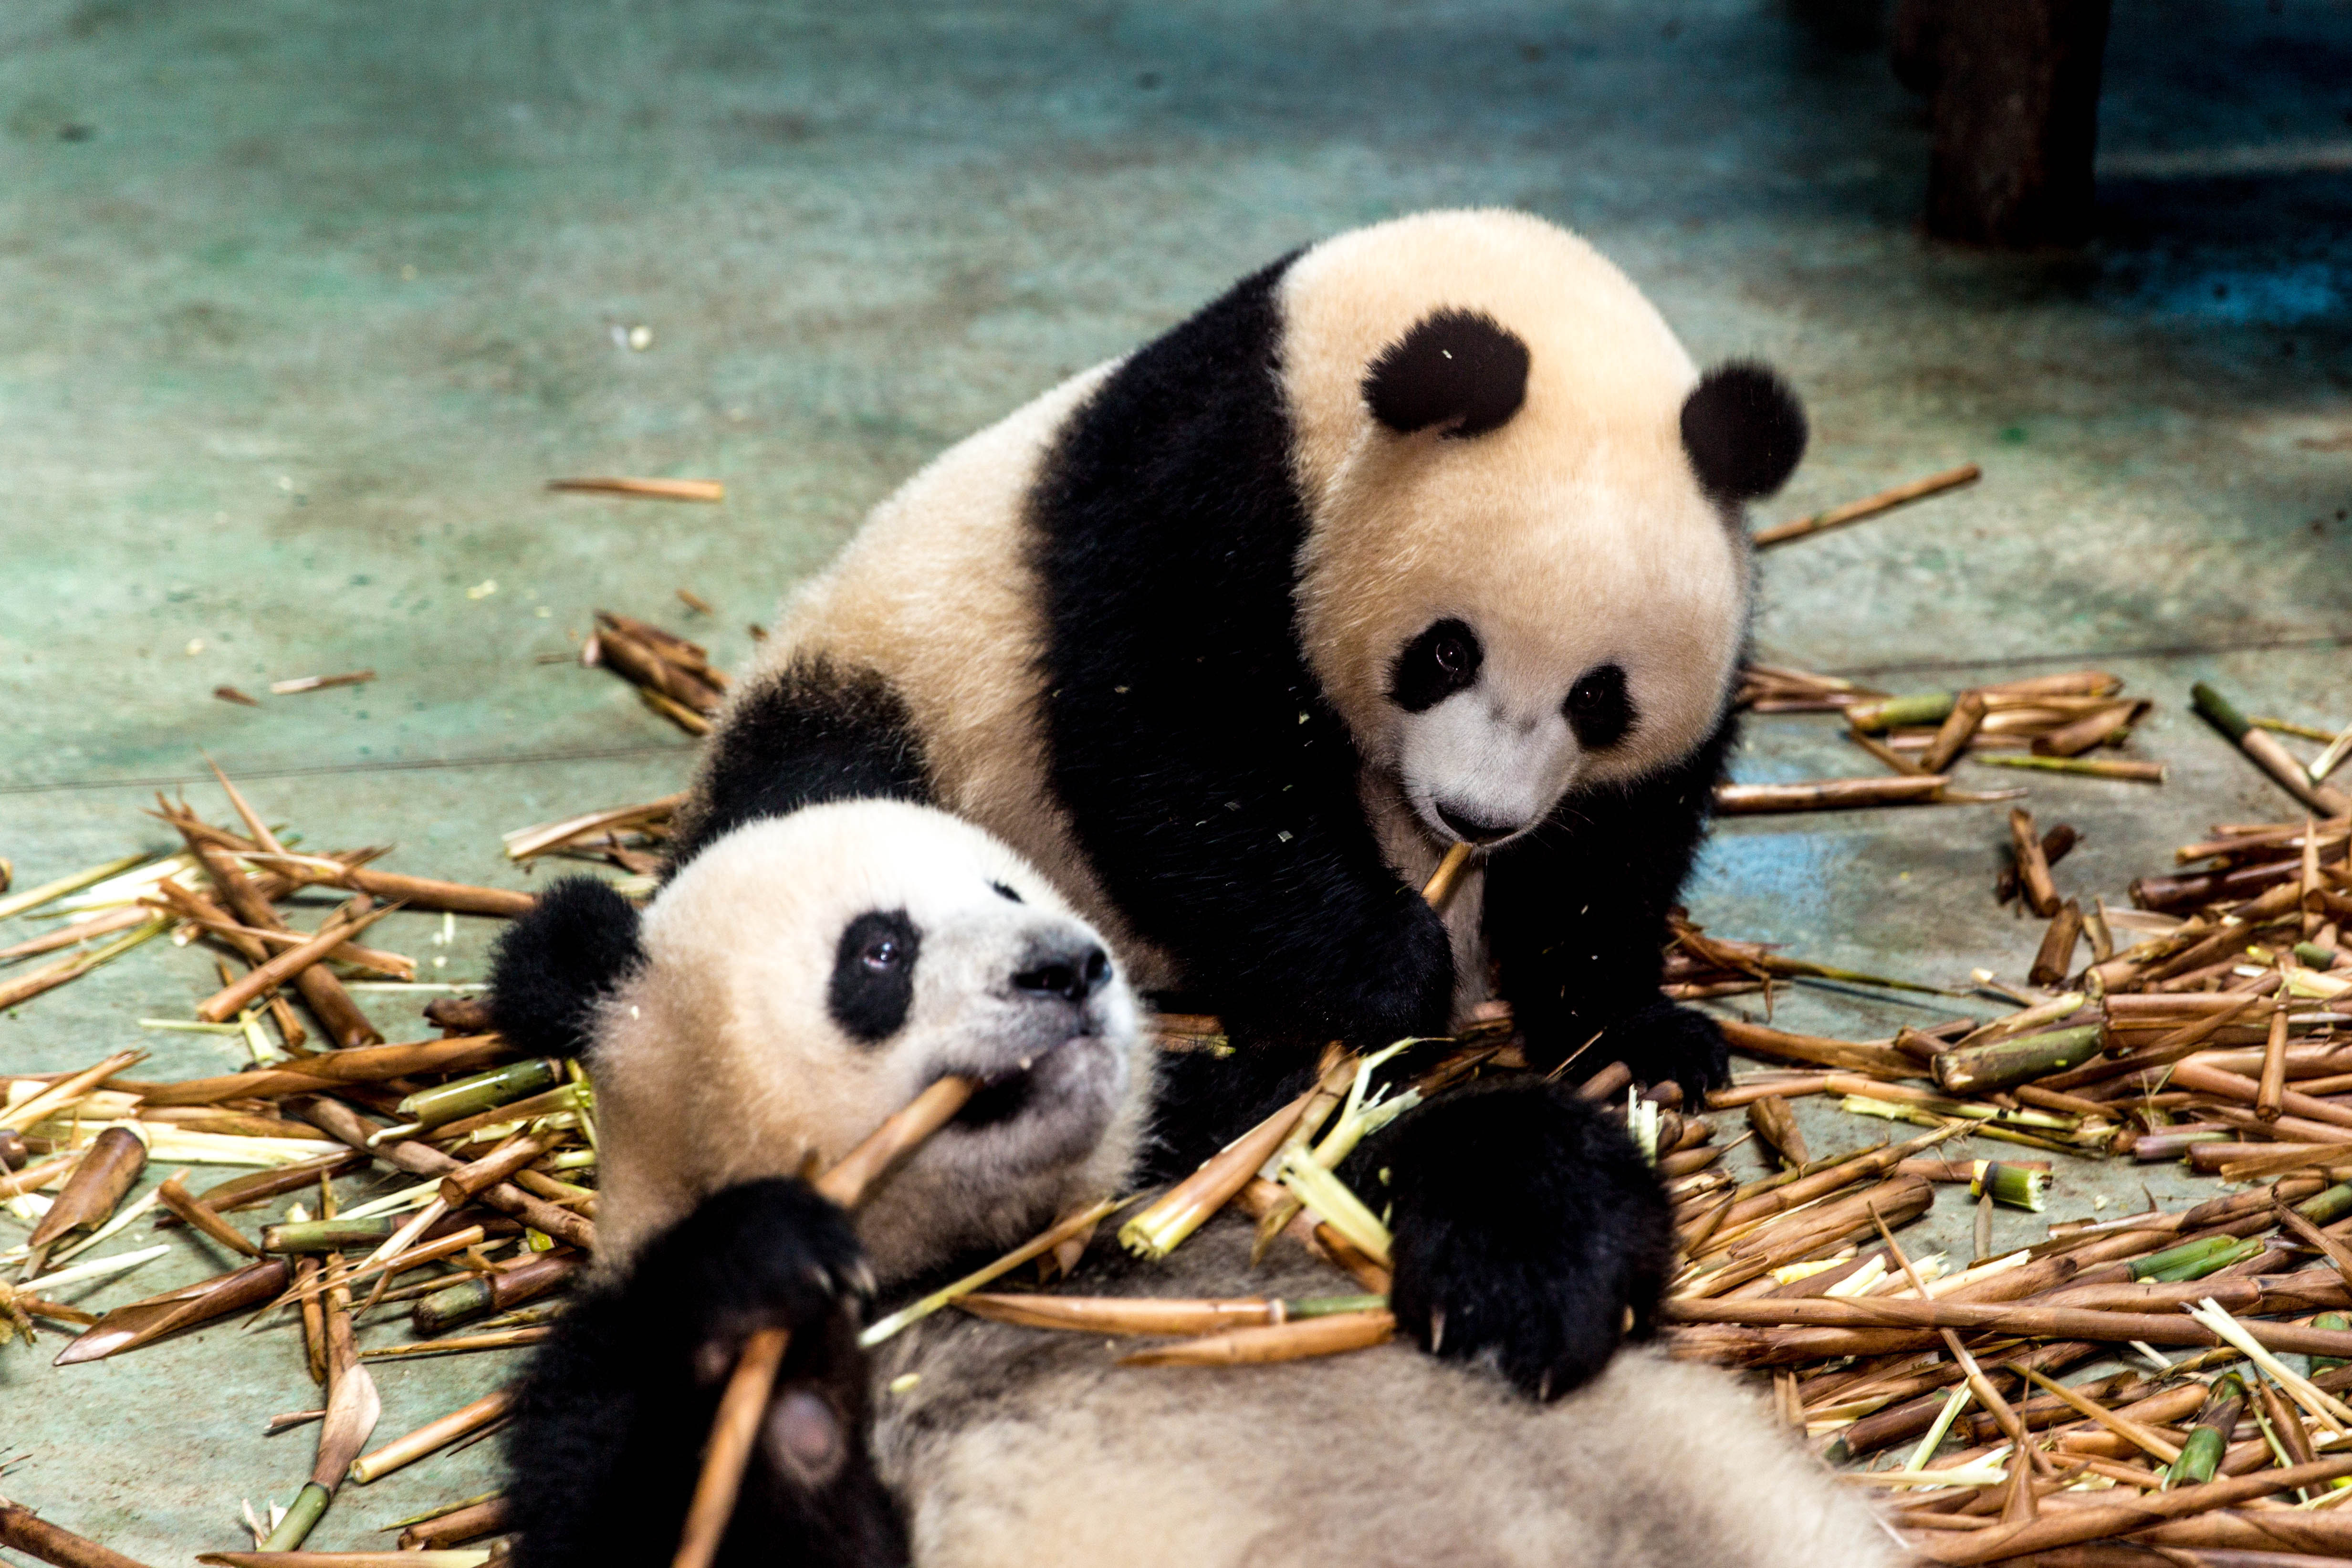panda: (597, 210, 1899, 1111), (506, 788, 1894, 1568)
